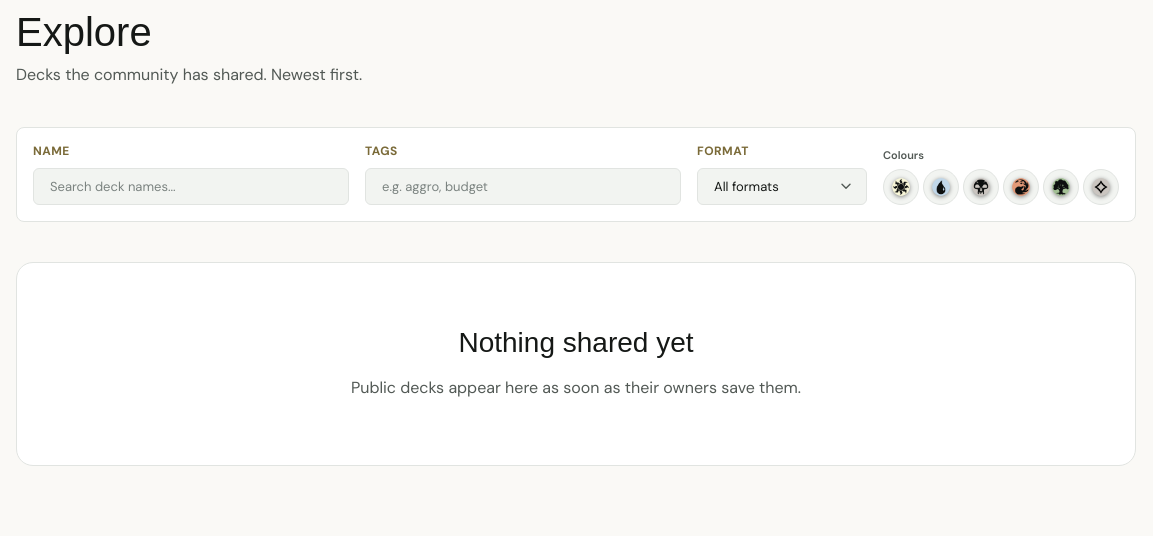
/explore feed › shows an empty state, with a way out when filters are on
The width and height of the screenshot is (1153, 536).
Expected: the heading "Nothing shared yet" is shown, [458, 327, 694, 359]
Click the 2nd button named "Blue" at (941, 187), box [923, 169, 959, 205]
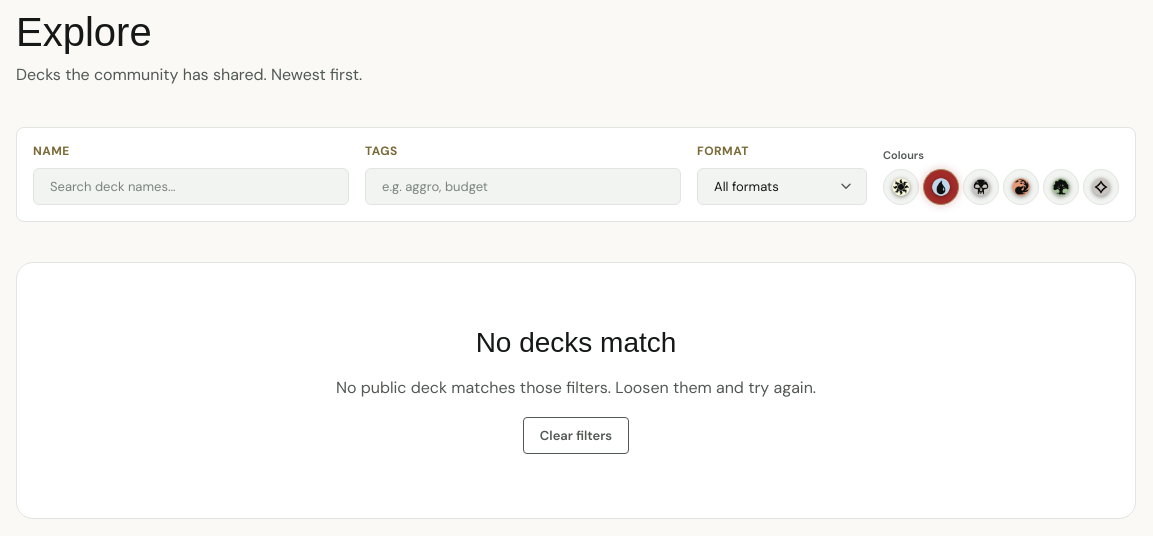
Expected: the heading "No decks match" is shown, [476, 327, 676, 359]
Click the button "Clear filters" at (576, 436), box [523, 417, 629, 454]
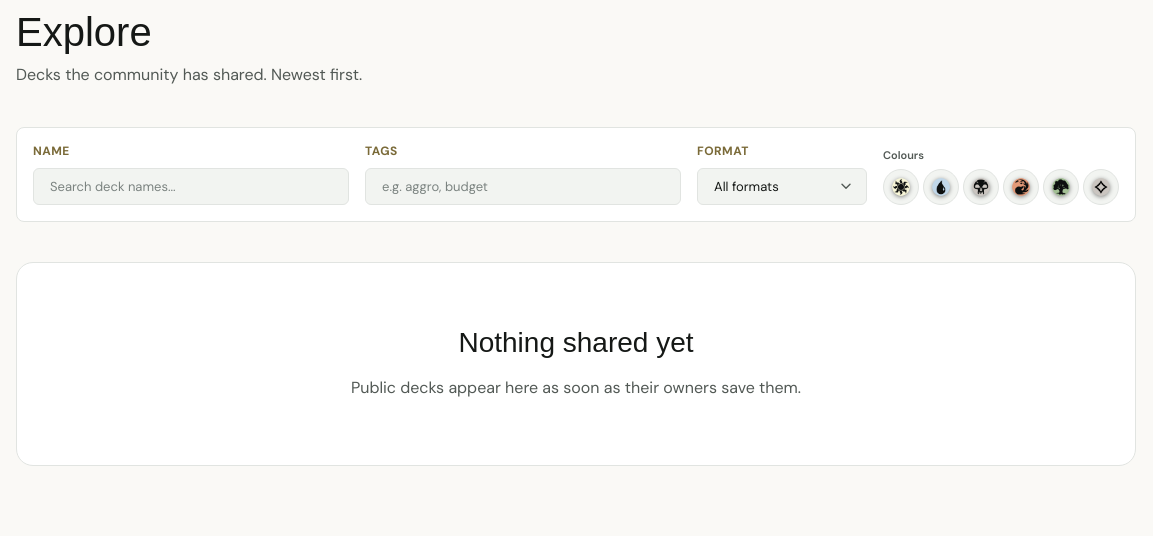
Expected: the heading "Nothing shared yet" is shown, [458, 327, 694, 359]
